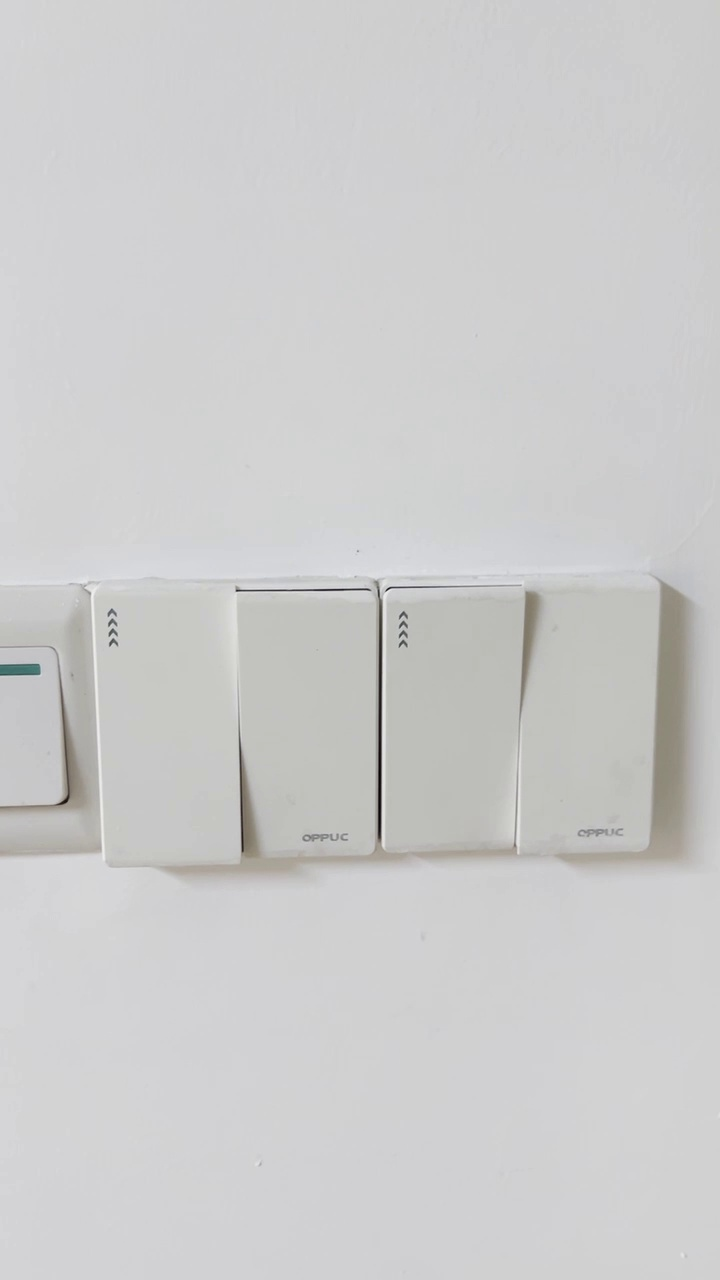button1: (92, 589, 241, 863), (523, 581, 653, 856), (384, 589, 515, 850), (244, 598, 378, 853)
